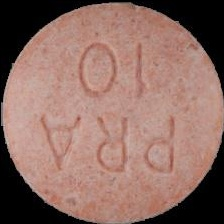60429-367: (0, 0, 224, 224)
